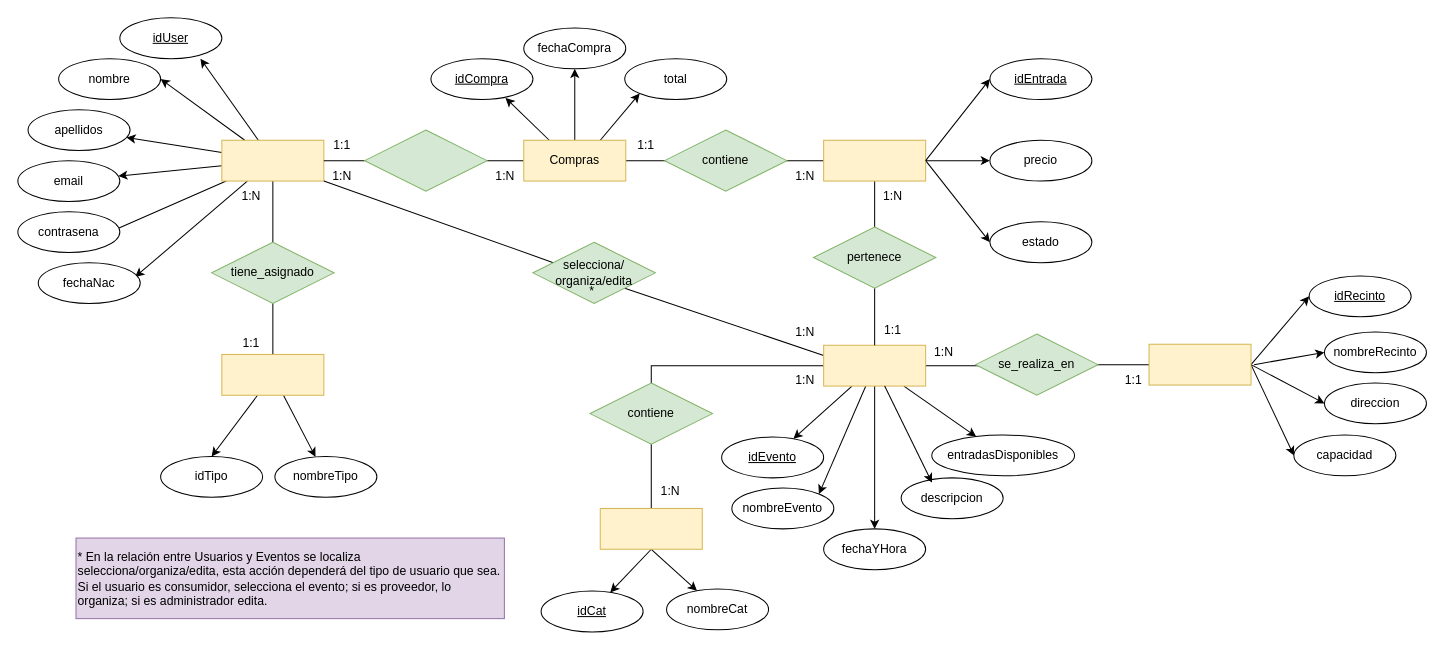
Some shapes in this 1444 by 650 pixel diagram are drawn without their labels. The shapes that lost their labels are listed below. From the top down, each one's centre as x and y in pixels, then its label:
point (272, 160): Usuarios
point (425, 160): realiza
point (874, 160): Entradas
point (272, 374): Tipos
point (874, 365): Eventos
point (1199, 364): Recintos
point (650, 528): Categorias_Fest
